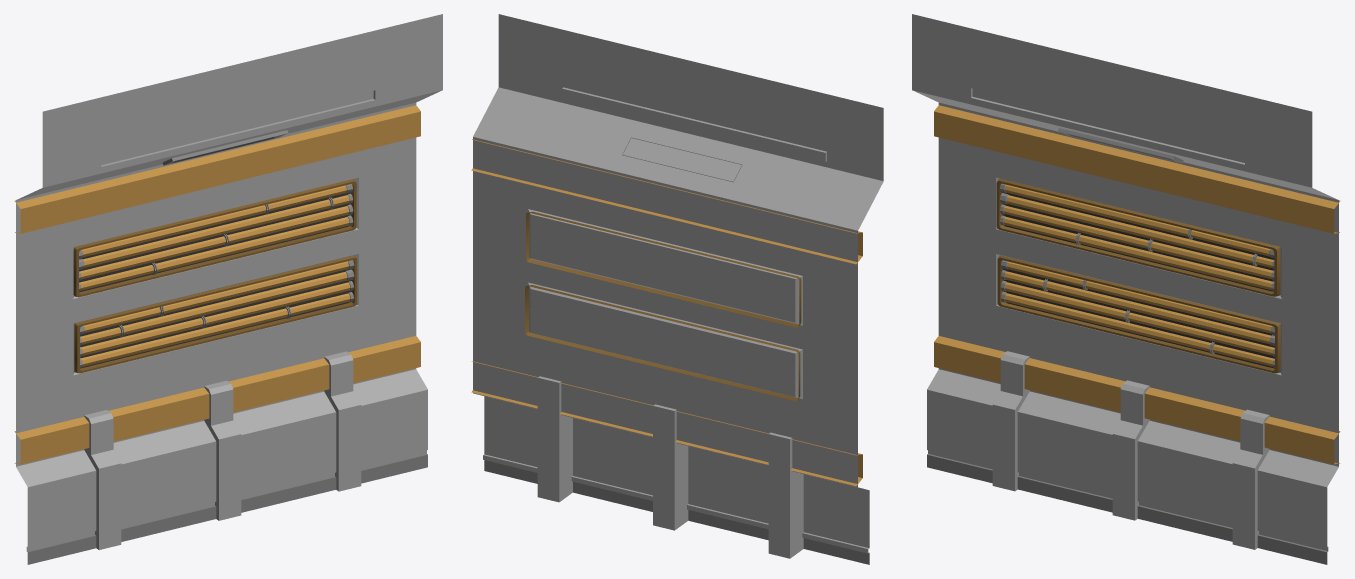
File: Wall_5.gltf
The picture shows the model from 3 angles, left to right: view 1: azimuth 30°, elevation 25°; view 2: azimuth 150°, elevation 25°; view 3: azimuth 330°, elevation 25°; orthographic projection. The views are drawn at different scales.
Visible parts, largest first — view 1: Wall_5; view 2: Wall_5; view 3: Wall_5.
Part boxes in pixels (<box>): Wall_5: <box>14,14,442,564</box>; Wall_5: <box>471,14,883,564</box>; Wall_5: <box>912,14,1340,564</box>.
Bounding box in the file's own units: 4 × 4.43 × 0.5279.
